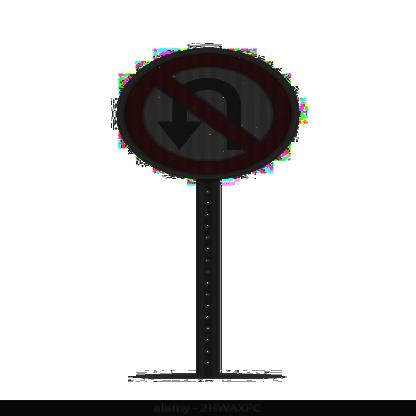No U-turn: (114, 47, 302, 184)
